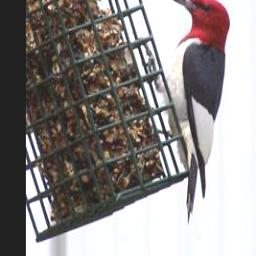Woodpecker: (144, 0, 232, 223)
